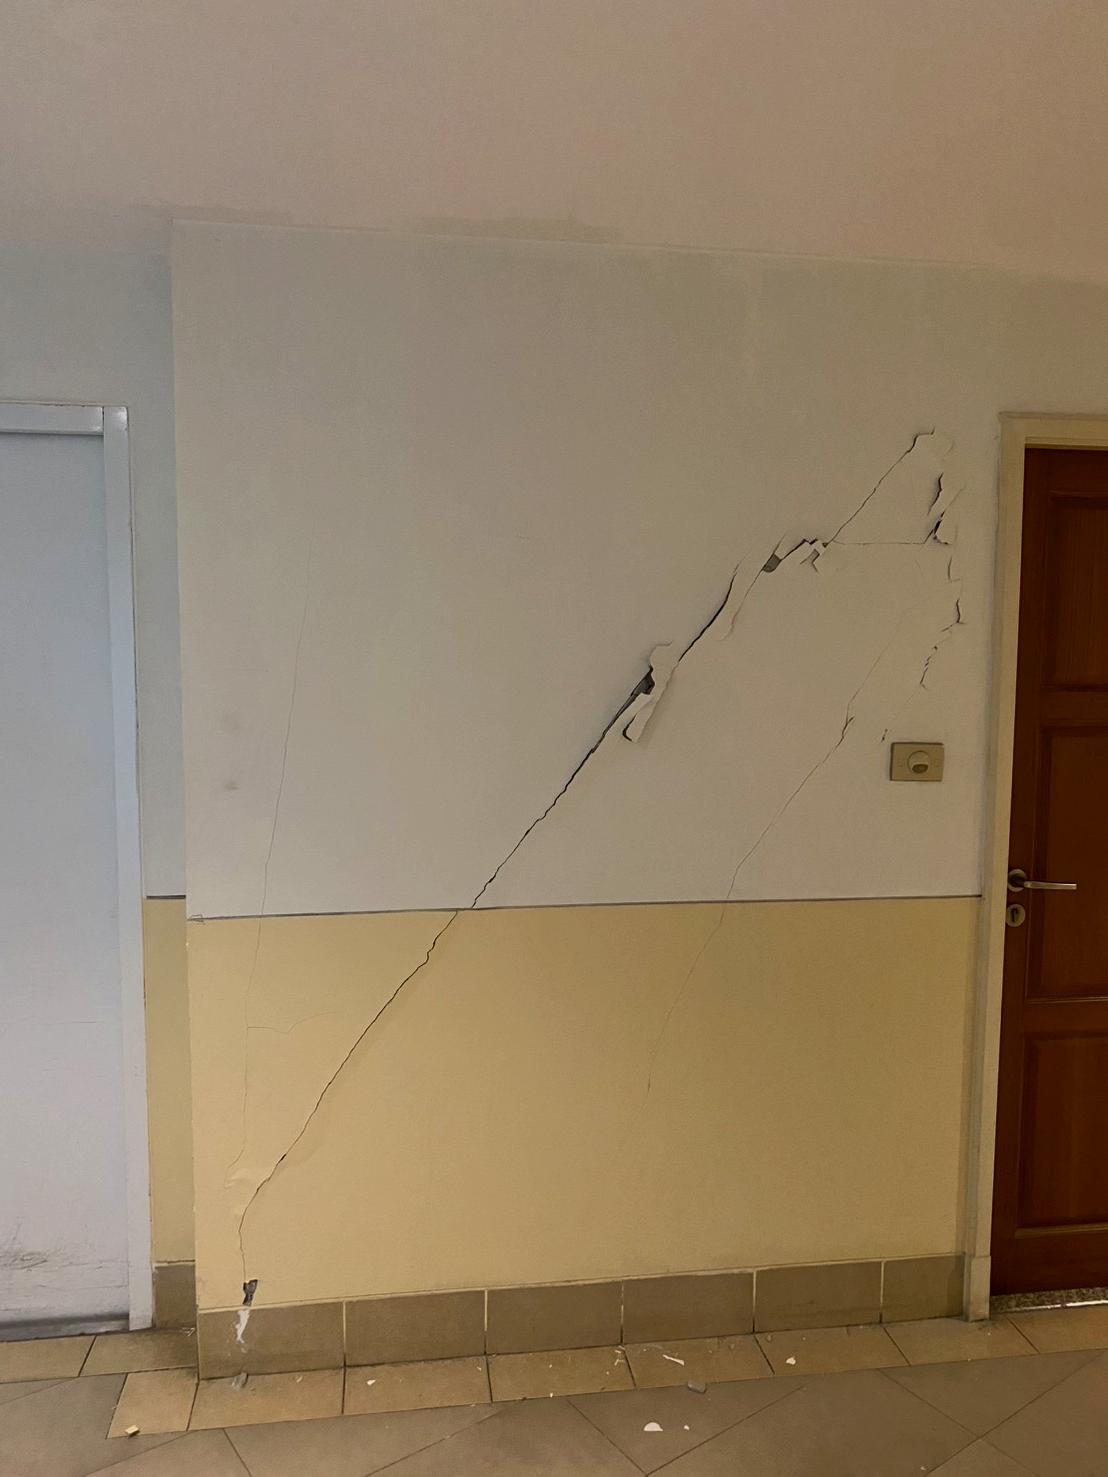High: (230, 416, 970, 1322)
